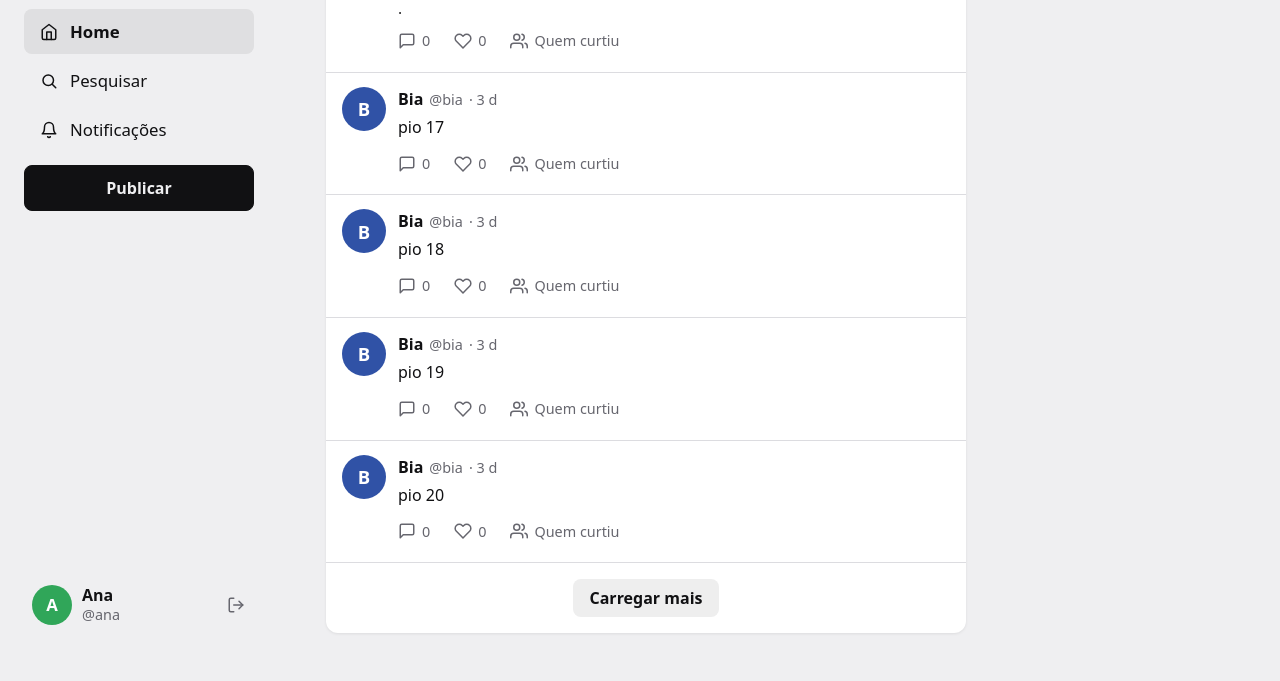
Scenario: feed › carrega mais pios com o cursor (id do último) e some o botão no fim
This screenshot has width=1280, height=681.
(page scrolled)
Click the button "Carregar mais" at (646, 598), box [572, 579, 720, 617]
(page scrolled)
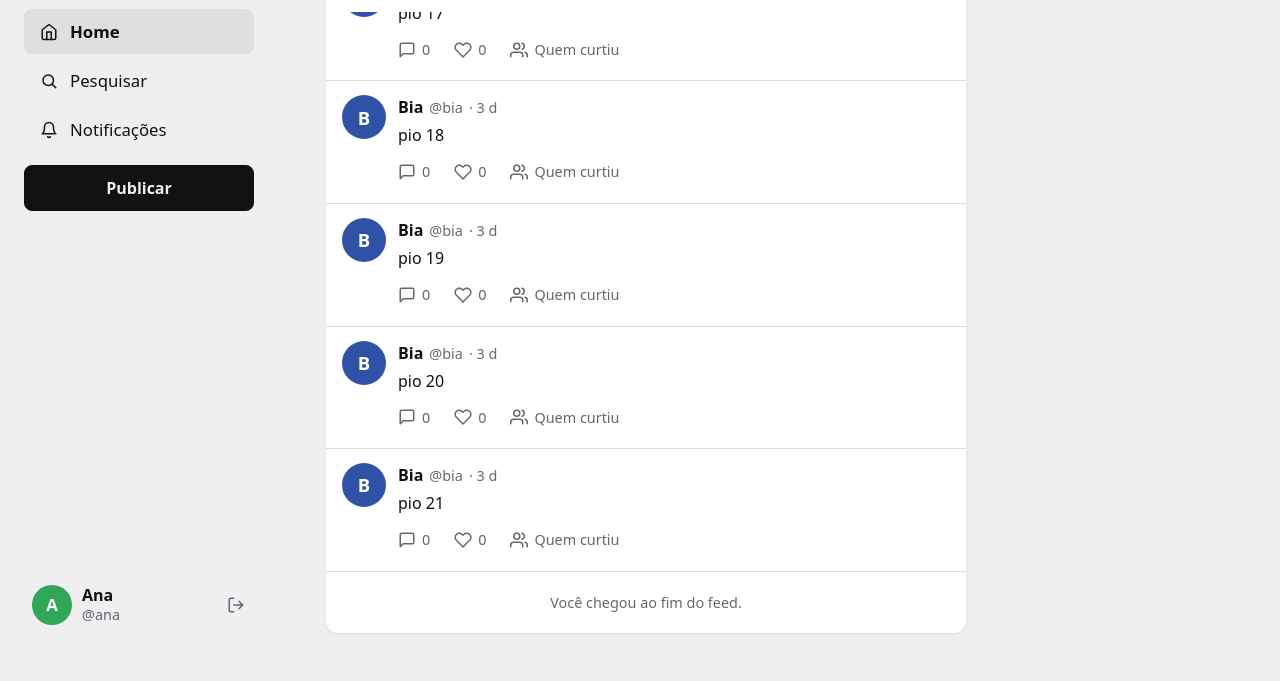
expect the text "pio 21" is shown: met, box [398, 492, 444, 514]
expect the button "Carregar mais" is gone: met
expect the text "Você chegou ao fim do feed." is shown: met, box [550, 593, 742, 612]
